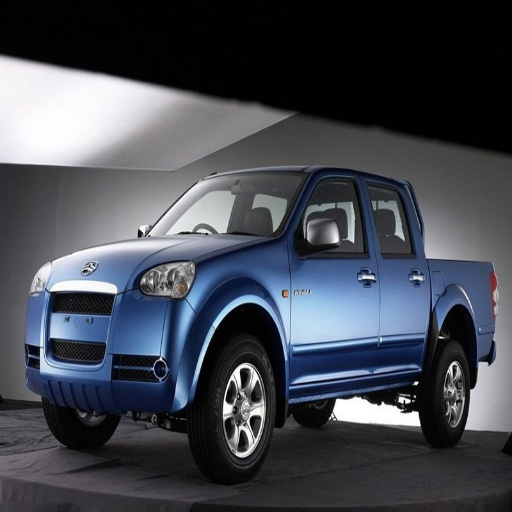front_bumper: (42, 278, 209, 410)
front_glass: (177, 172, 304, 235)
front_left_door: (293, 173, 377, 376)
trunk: (426, 260, 489, 353)
